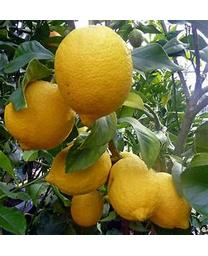lemon: (54, 26, 133, 122), (5, 79, 75, 149), (109, 147, 160, 221), (46, 139, 113, 194), (157, 172, 193, 228), (72, 189, 105, 221), (130, 29, 144, 46)
